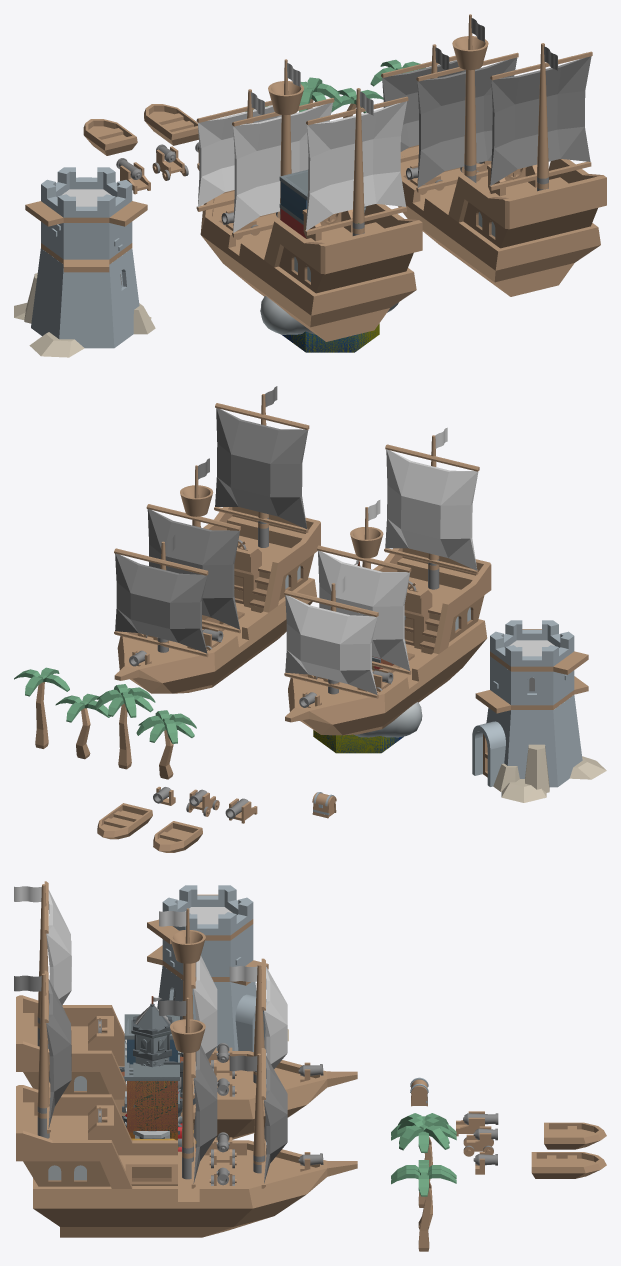
The model's file is world.glb.
The picture shows the model from 3 angles, top to bottom: view 1: azimuth 30°, elevation 25°; view 2: azimuth 150°, elevation 25°; view 3: azimuth 270°, elevation 25°; orthographic projection. The views are drawn at different scales.
Parts seen in each view (by area): view 1: k_ship-light, k_ship-dark, k_tower, k_boat-large, k_boat-small, hex_water, hex_grass, cloud_big, c_building_H, k_cannon-mobile, k_palm-detailed-long, k_cannon-large (+1 smaller); view 2: k_ship-light, k_ship-dark, k_tower, k_palm-detailed-long, k_palm-detailed-short, k_palm-long, k_boat-large, hex_grass, k_palm-short, k_boat-small, cloud_big, hex_water; view 3: k_ship-dark, k_ship-light, k_tower, c_building_E, k_boat-large, building_castle@lod, k_palm-detailed-long, k_boat-small, k_palm-long, c_building_F, building_castle, c_building_H@lod (+3 smaller).
Boxes of the visible parts, bbox=[...] form: k_ship-light: bbox=[196, 59, 422, 341]; k_ship-dark: bbox=[381, 14, 606, 296]; k_tower: bbox=[14, 167, 155, 357]; k_boat-large: bbox=[144, 104, 198, 145]; k_boat-small: bbox=[83, 119, 137, 155]; hex_water: bbox=[282, 331, 375, 352]; hex_grass: bbox=[286, 323, 379, 352]; cloud_big: bbox=[260, 296, 398, 334]; c_building_H: bbox=[279, 171, 364, 220]; k_cannon-mobile: bbox=[152, 144, 188, 180]; k_palm-detailed-long: bbox=[299, 77, 342, 112]; k_cannon-large: bbox=[116, 158, 150, 194]; k_ship-light: bbox=[284, 427, 491, 735]; k_ship-dark: bbox=[114, 386, 320, 693]; k_tower: bbox=[472, 620, 606, 802]; k_palm-detailed-long: bbox=[95, 684, 155, 769]; k_palm-detailed-short: bbox=[136, 710, 196, 779]; k_palm-long: bbox=[14, 667, 69, 748]; k_boat-large: bbox=[97, 803, 152, 839]; hex_grass: bbox=[313, 730, 402, 753]; k_palm-short: bbox=[55, 693, 110, 759]; k_boat-small: bbox=[153, 821, 202, 852]; cloud_big: bbox=[354, 702, 422, 737]; hex_water: bbox=[314, 733, 403, 753]; k_ship-dark: bbox=[14, 970, 357, 1237]; k_ship-light: bbox=[14, 881, 357, 1140]; k_tower: bbox=[147, 885, 288, 1052]; c_building_E: bbox=[125, 1063, 179, 1140]; k_boat-large: bbox=[531, 1152, 606, 1178]; building_castle@lod: bbox=[120, 998, 195, 1122]; k_palm-detailed-long: bbox=[391, 1117, 456, 1207]; k_boat-small: bbox=[544, 1122, 606, 1149]; k_palm-long: bbox=[391, 1164, 456, 1251]; c_building_F: bbox=[125, 1062, 179, 1138]; building_castle: bbox=[119, 996, 183, 1127]; c_building_H@lod: bbox=[124, 1014, 179, 1076].
Size of the model in its own units: 13.91 by 7.55 by 13.98.
